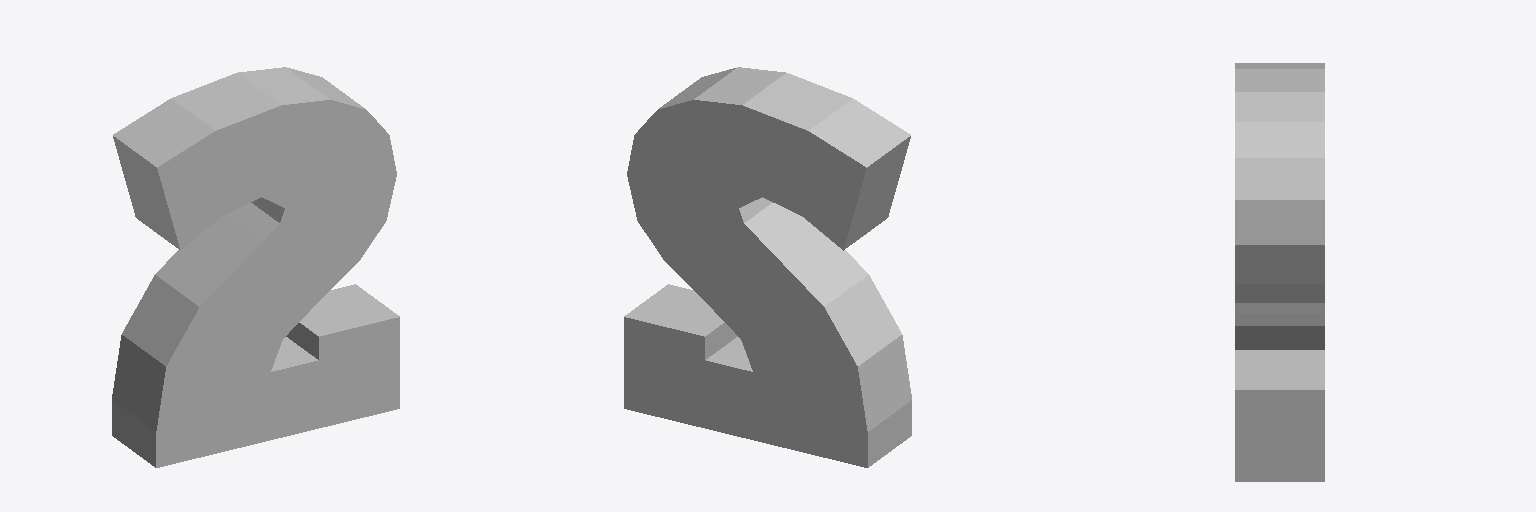
The picture shows the model from 3 angles: view 1: azimuth 30°, elevation 25°; view 2: azimuth 150°, elevation 25°; view 3: azimuth 270°, elevation 25°; orthographic projection.
Parts seen in each view (by area): view 1: text: ABCDEFGHIJKLMNOPQRSTUVWXYZ[number redacted]; view 2: text: ABCDEFGHIJKLMNOPQRSTUVWXYZ[number redacted]; view 3: text: ABCDEFGHIJKLMNOPQRSTUVWXYZ[number redacted].
Part boxes in pixels (x1,y1,x2,y2): text: ABCDEFGHIJKLMNOPQRSTUVWXYZ[number redacted]: (112,67,399,467); text: ABCDEFGHIJKLMNOPQRSTUVWXYZ[number redacted]: (624,67,911,467); text: ABCDEFGHIJKLMNOPQRSTUVWXYZ[number redacted]: (1235,63,1324,481).
Size of the model in its own units: 78.92 by 103 by 25.